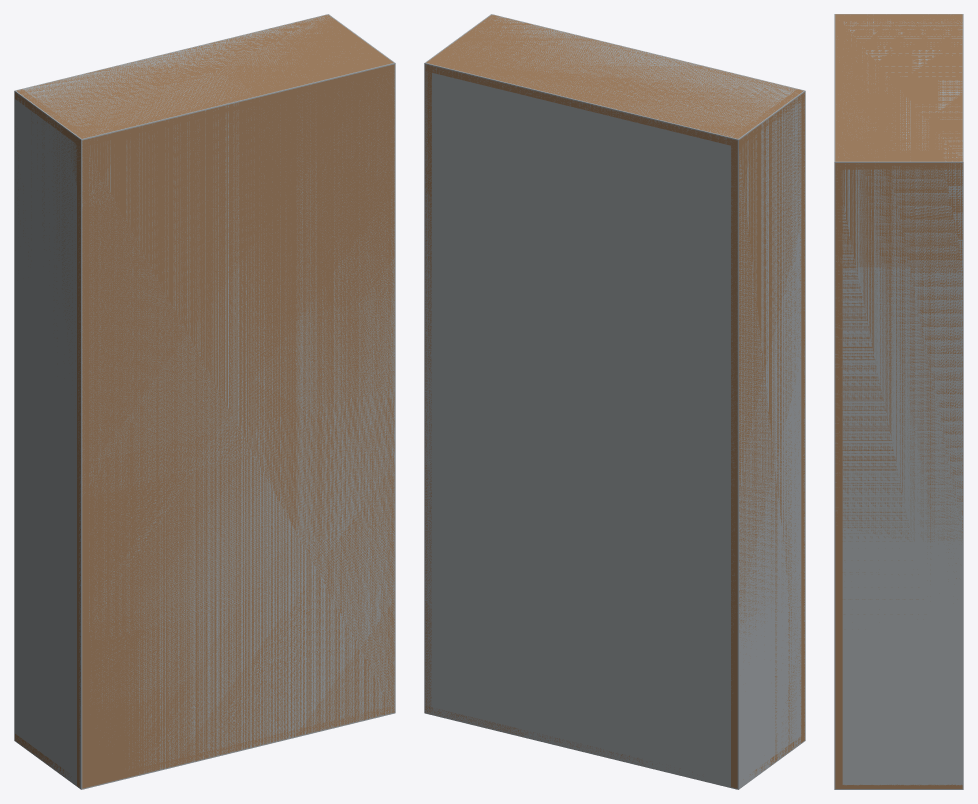
File: bookcase.glb
3 views of the same model, side by side, from view 1: azimuth 30°, elevation 25°; view 2: azimuth 150°, elevation 25°; view 3: azimuth 270°, elevation 25° (orthographic). The views are drawn at different scales.
Parts seen in each view (by area): view 1: propkit_bookcase_001_back, propkit_bookcase_COL, propkit_bookcase_005_top, propkit_bookcase_002_side_-1, propkit_bookcase_003_side_1, propkit_bookcase_004_base; view 2: propkit_bookcase_COL, propkit_bookcase_002_side_-1, propkit_bookcase_005_top, propkit_bookcase_003_side_1, propkit_bookcase_001_back, propkit_bookcase_004_base; view 3: propkit_bookcase_COL, propkit_bookcase_003_side_1, propkit_bookcase_005_top, propkit_bookcase_001_back, propkit_bookcase_002_side_-1, propkit_bookcase_004_base.
Part boxes in pixels (x1,y1,x2,y2): propkit_bookcase_001_back: [77, 60, 394, 788]; propkit_bookcase_COL: [14, 14, 395, 789]; propkit_bookcase_005_top: [15, 15, 394, 146]; propkit_bookcase_002_side_-1: [17, 89, 88, 788]; propkit_bookcase_003_side_1: [322, 15, 394, 713]; propkit_bookcase_004_base: [15, 706, 394, 786]; propkit_bookcase_COL: [424, 14, 805, 789]; propkit_bookcase_002_side_-1: [731, 89, 803, 788]; propkit_bookcase_005_top: [425, 15, 804, 146]; propkit_bookcase_003_side_1: [425, 16, 496, 713]; propkit_bookcase_001_back: [488, 15, 804, 742]; propkit_bookcase_004_base: [426, 706, 804, 779]; propkit_bookcase_COL: [834, 14, 963, 789]; propkit_bookcase_003_side_1: [835, 158, 962, 614]; propkit_bookcase_005_top: [835, 14, 962, 169]; propkit_bookcase_001_back: [835, 14, 842, 788]; propkit_bookcase_002_side_-1: [835, 14, 962, 17]; propkit_bookcase_004_base: [842, 784, 962, 788].
Size of the model in its own units: 0.92 by 1.82 by 0.34.
